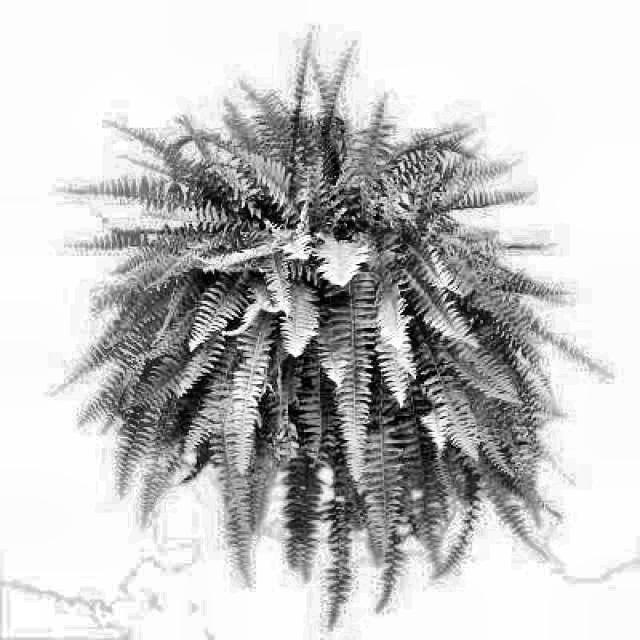plants: (89, 80, 544, 574)
